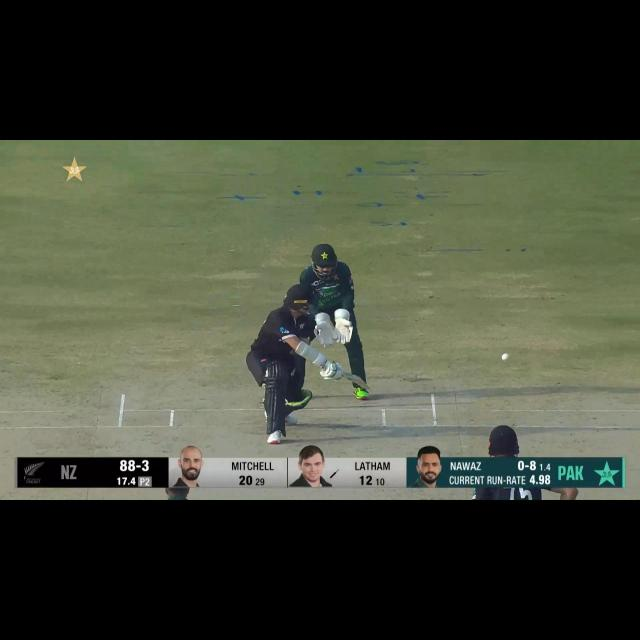bat: (341, 374, 373, 391)
toe: (358, 380, 374, 393)
